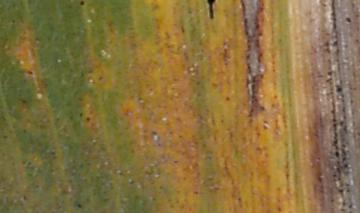tarspot: (205, 1, 217, 20), (22, 69, 35, 76), (334, 84, 343, 94), (344, 16, 352, 25), (78, 111, 85, 119), (77, 1, 88, 6), (224, 95, 231, 102), (334, 150, 341, 157), (75, 202, 82, 208), (84, 116, 91, 122)
